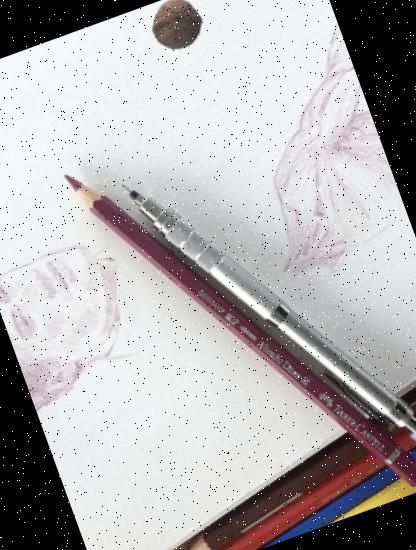Walnut: (143, 0, 210, 57)
